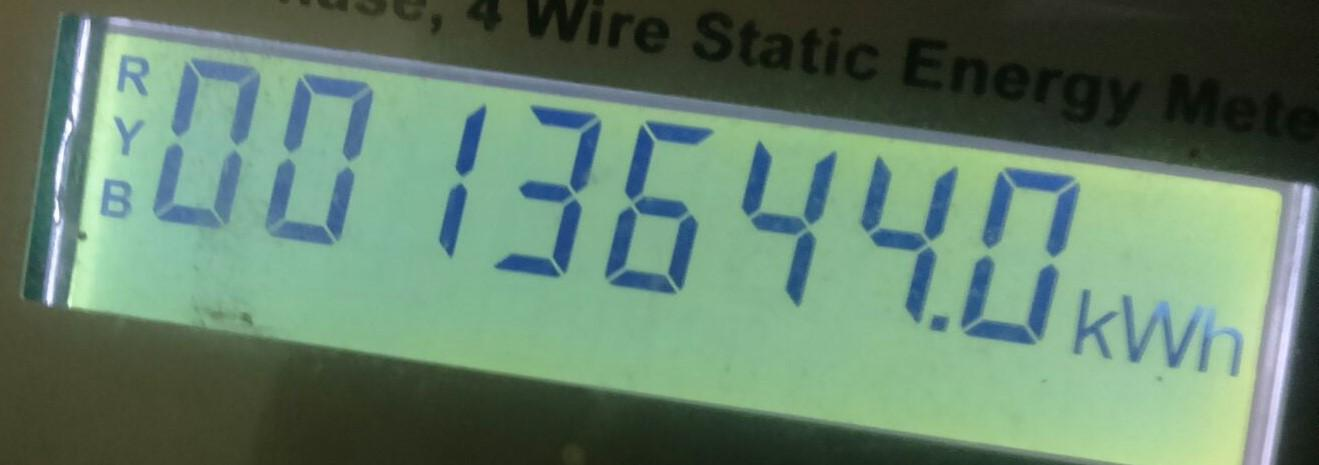.: (1067, 285, 1248, 382)
0: (916, 311, 957, 348)
1: (962, 153, 1097, 347), (277, 63, 371, 276), (153, 63, 255, 240)
2: (425, 83, 484, 278)
4: (505, 81, 608, 278)
5: (858, 131, 973, 336), (731, 123, 845, 328)
7: (594, 107, 737, 319)
